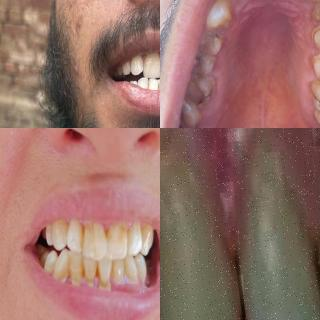Gum Swelling: (121, 274, 141, 292)
calculus: (95, 276, 122, 295), (59, 268, 77, 288)
cavities: (195, 89, 214, 108), (194, 52, 208, 73), (207, 28, 222, 46), (312, 86, 320, 110)
maligned: (181, 101, 203, 127), (142, 49, 160, 80), (149, 77, 159, 93), (182, 120, 200, 128), (138, 75, 148, 89)
plaque: (198, 78, 218, 110), (212, 5, 236, 30), (212, 28, 228, 50), (309, 51, 320, 81), (309, 24, 320, 52), (205, 53, 219, 75), (309, 4, 320, 22)
stains: (90, 259, 104, 282), (76, 258, 90, 280), (145, 80, 151, 90), (156, 80, 160, 92)
